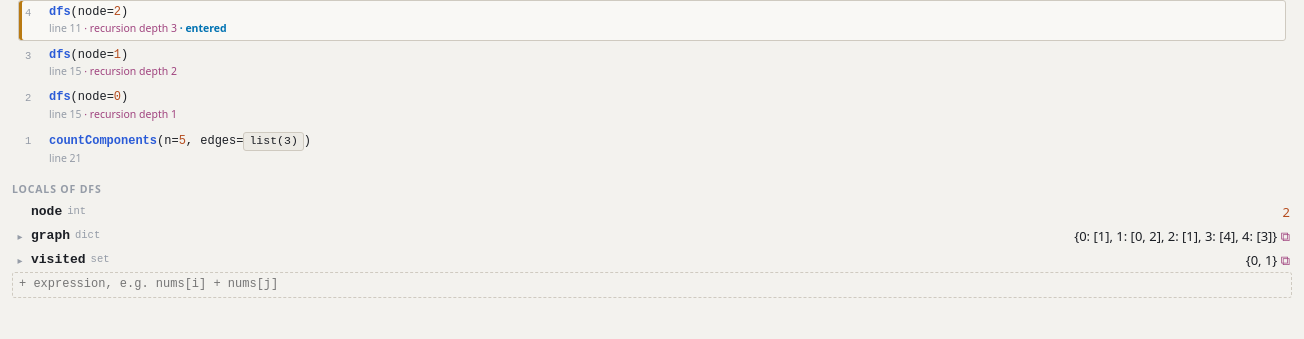
Scenario: Call stack and variables › selecting a caller frame shows that frame's locals
This screenshot has width=1304, height=339.
Expected: the element with test id "var-node" shows "2", [1283,202,1290,220]
Click the button with test id "frame-2" at [101, 105], box [25,90,177,121]
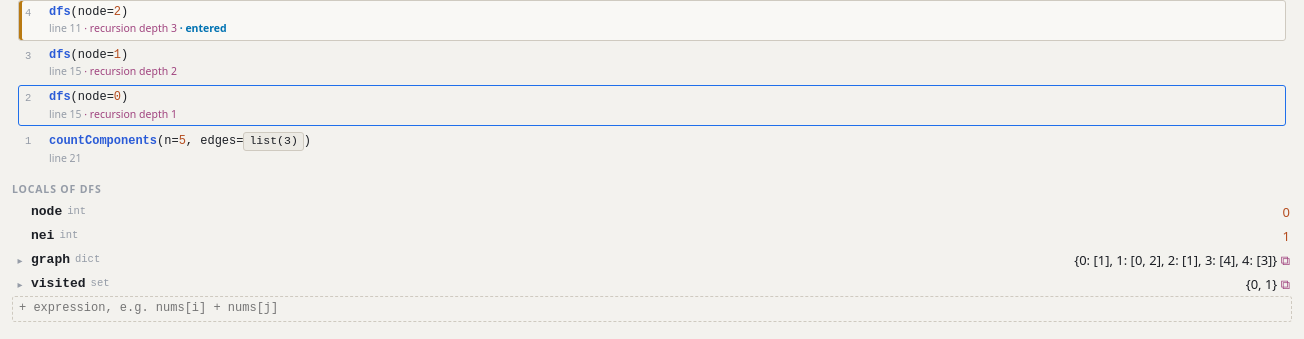
Expected: the element with test id "var-node" shows "0", [1283,202,1290,220]
